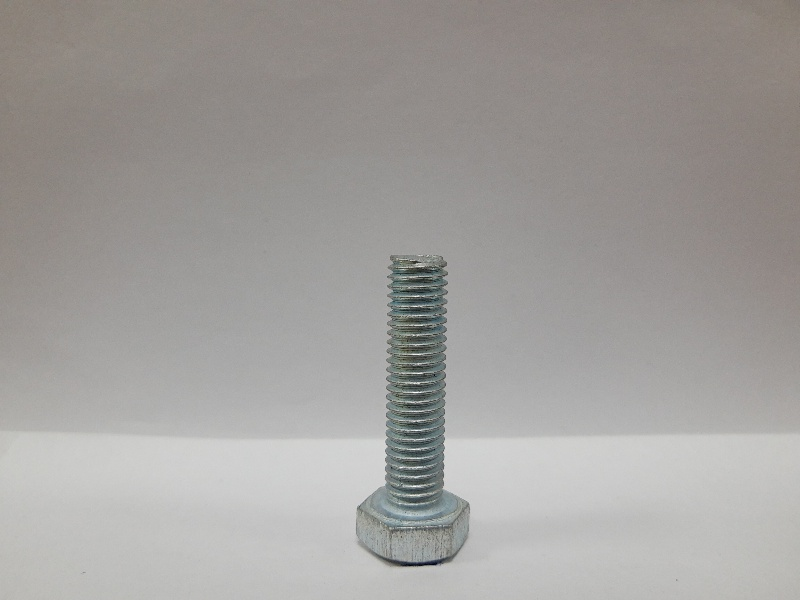pf: (353, 243, 477, 569)
